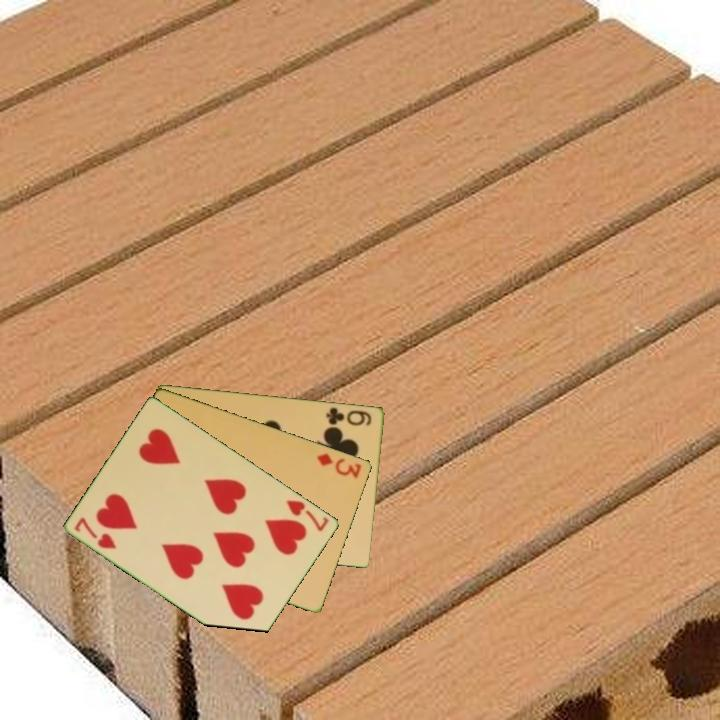3d: (313, 449, 365, 481)
6c: (323, 404, 375, 428)
7h: (283, 496, 332, 535), (71, 513, 120, 552)
